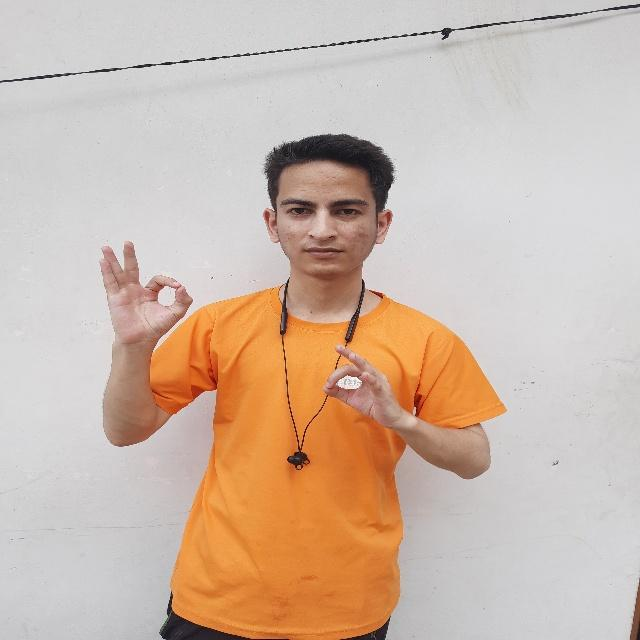Okay: (89, 234, 198, 357), (318, 337, 410, 441)
